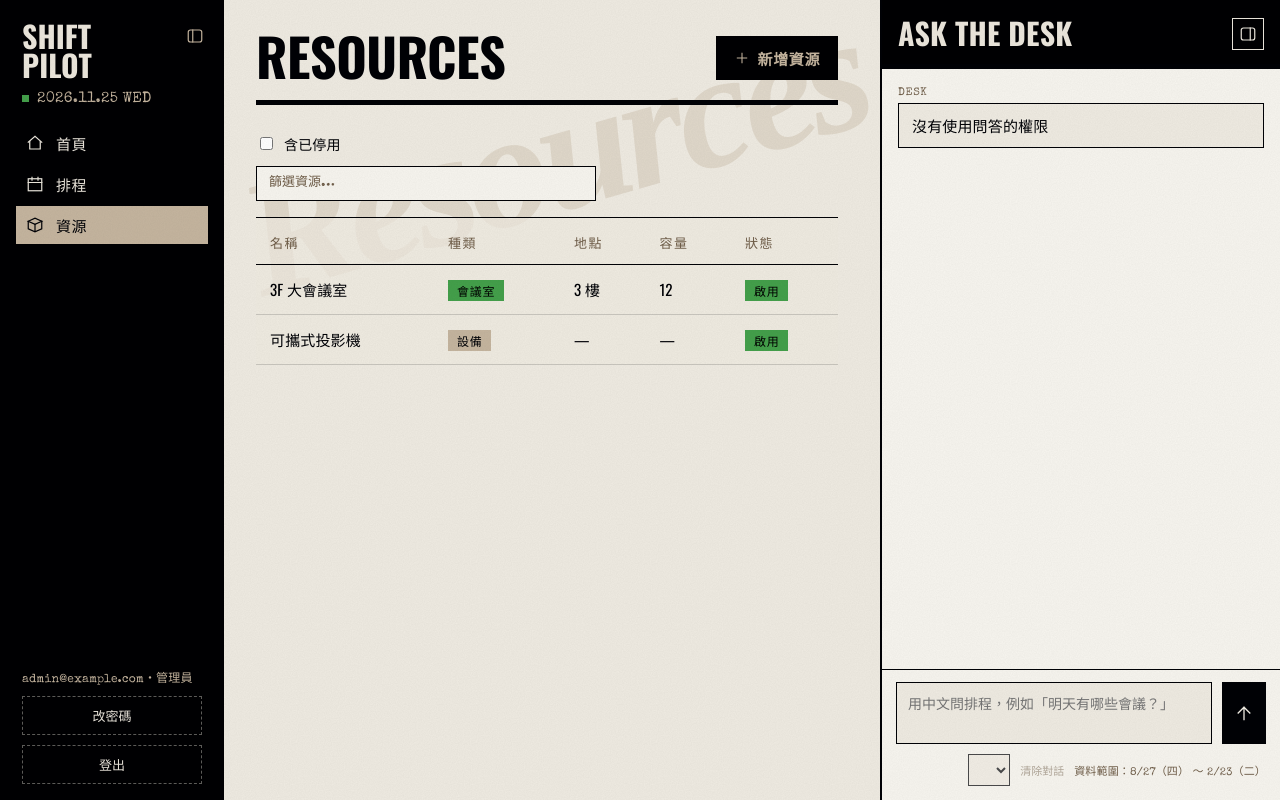
Test case: testDeactivateRefreshesAndShowsInactiveTag
The width and height of the screenshot is (1280, 800).
Click the text "3F 大會議室" at coordinates (345, 290), box [256, 265, 434, 315]
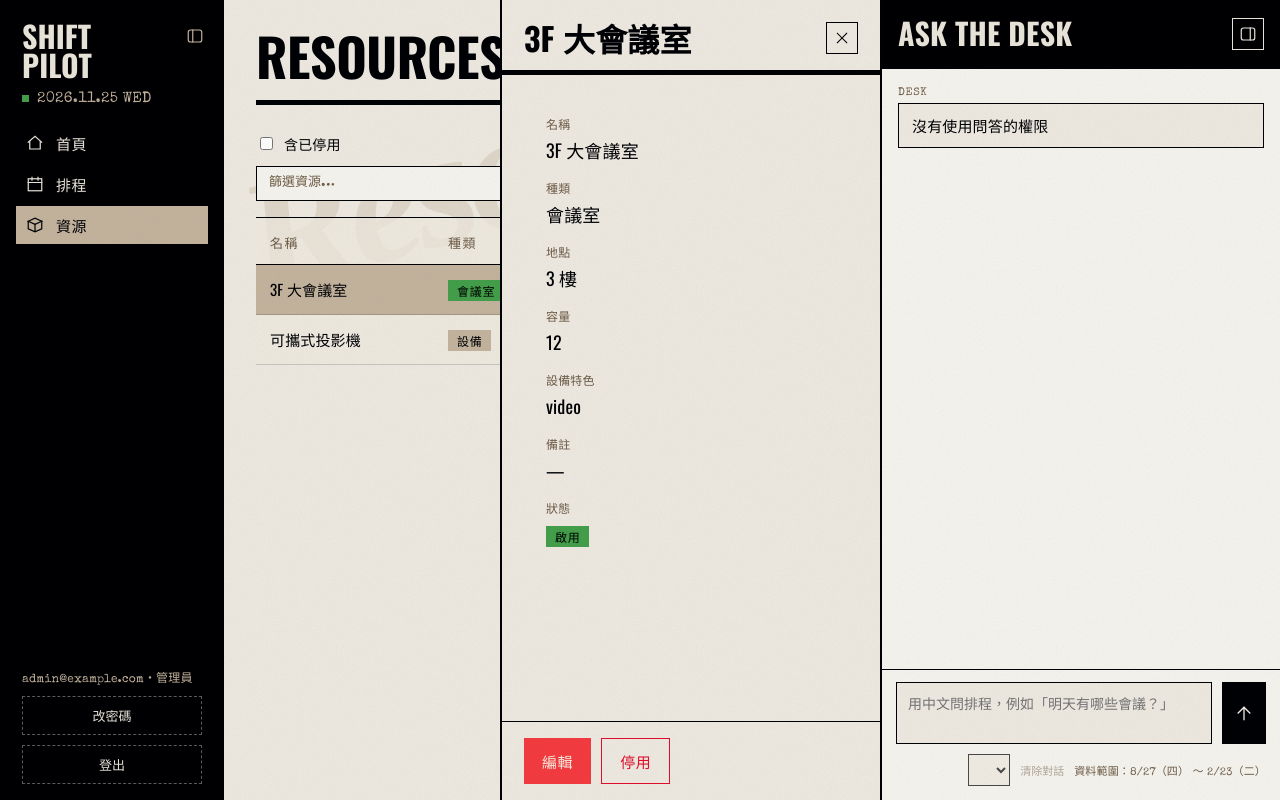
Click the button "停用" at coordinates (636, 761), box [601, 738, 670, 784]
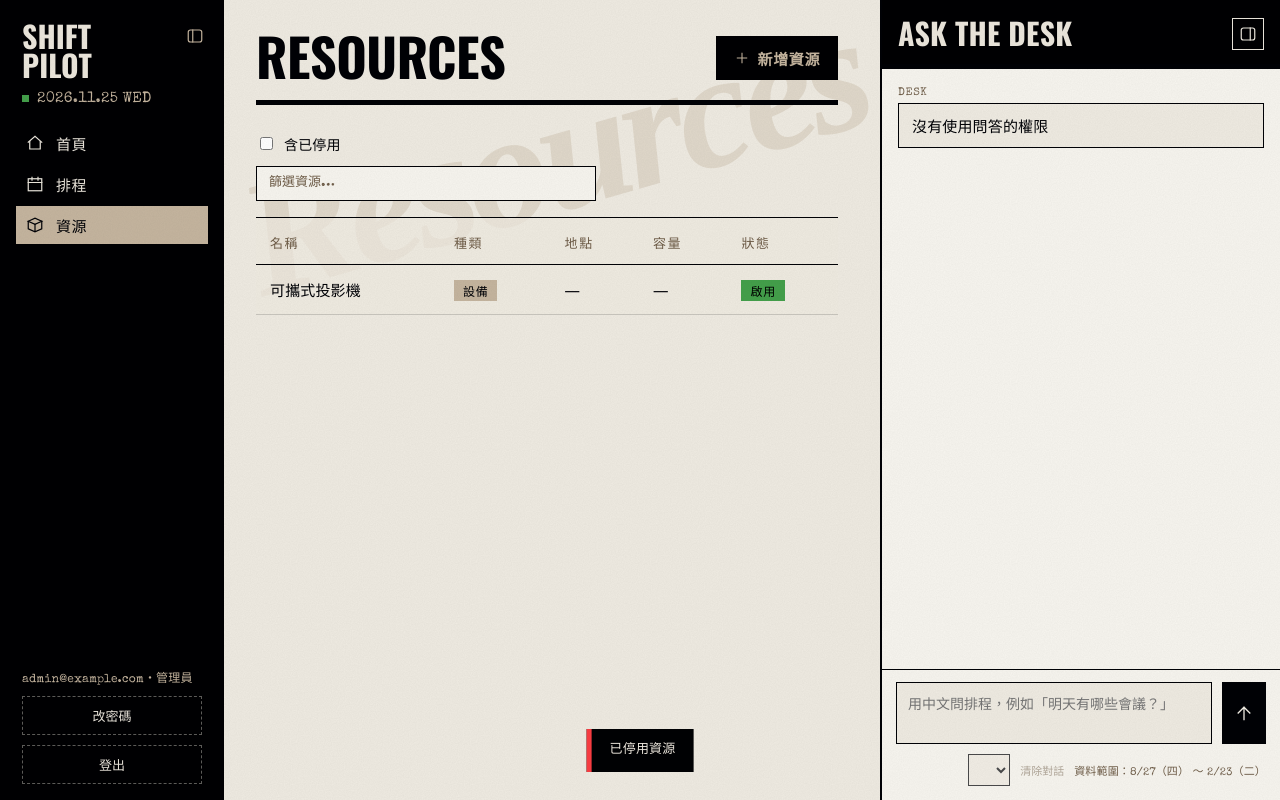
Now the text "3F 大會議室" is gone
Click the checkbox labelled "含已停用" at coordinates (266, 144), box [260, 137, 273, 150]
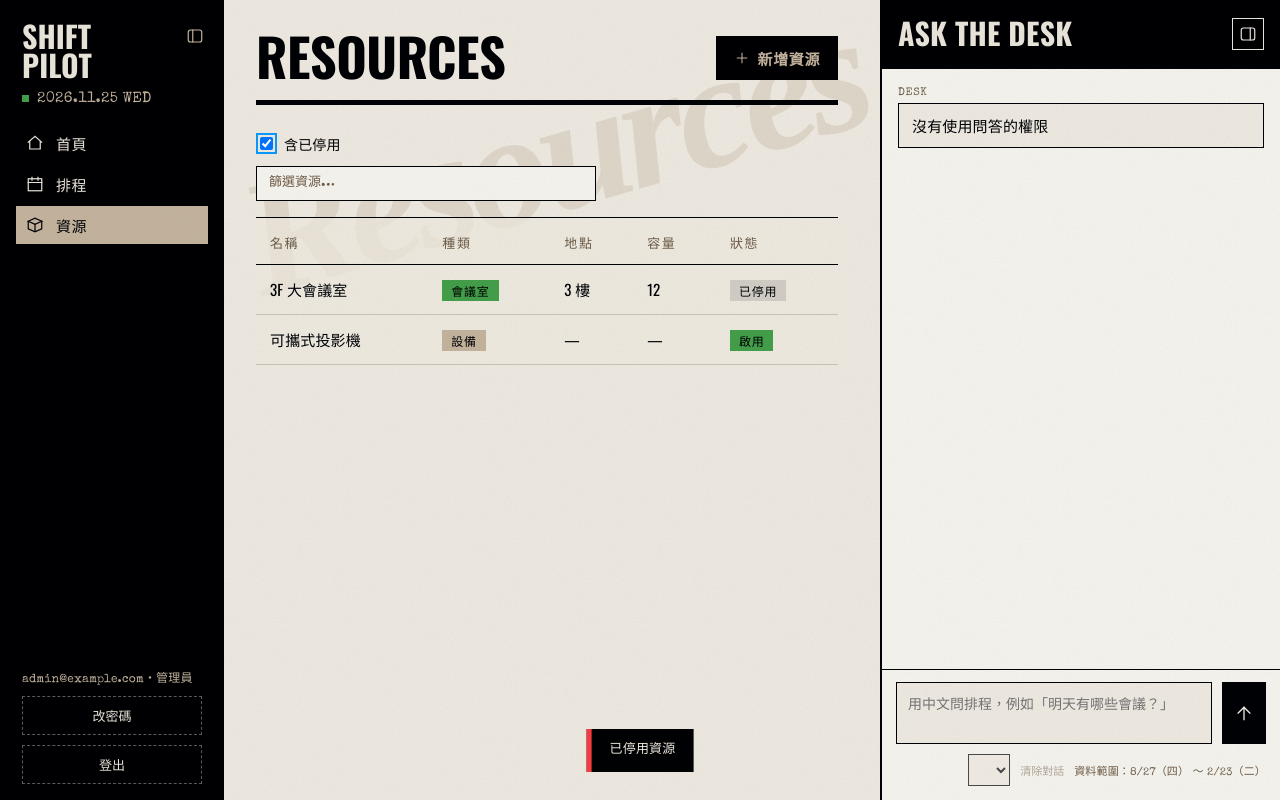
Now the text "已停用" is shown, box [730, 280, 786, 301]
